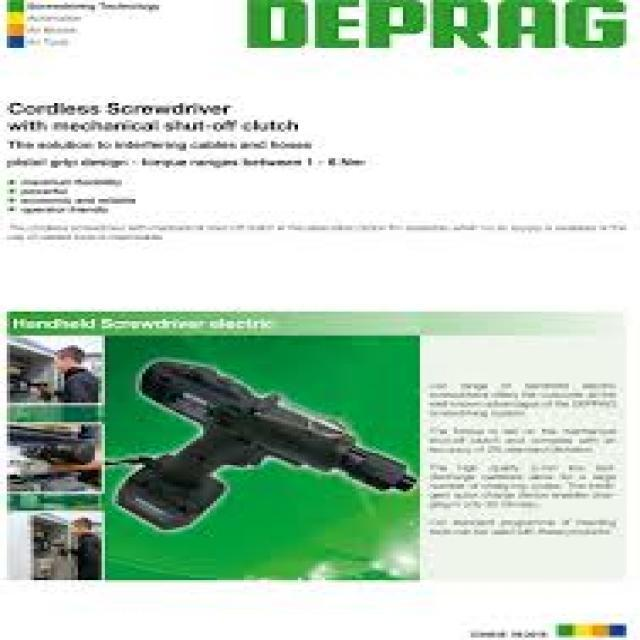drill: (120, 358, 418, 539)
